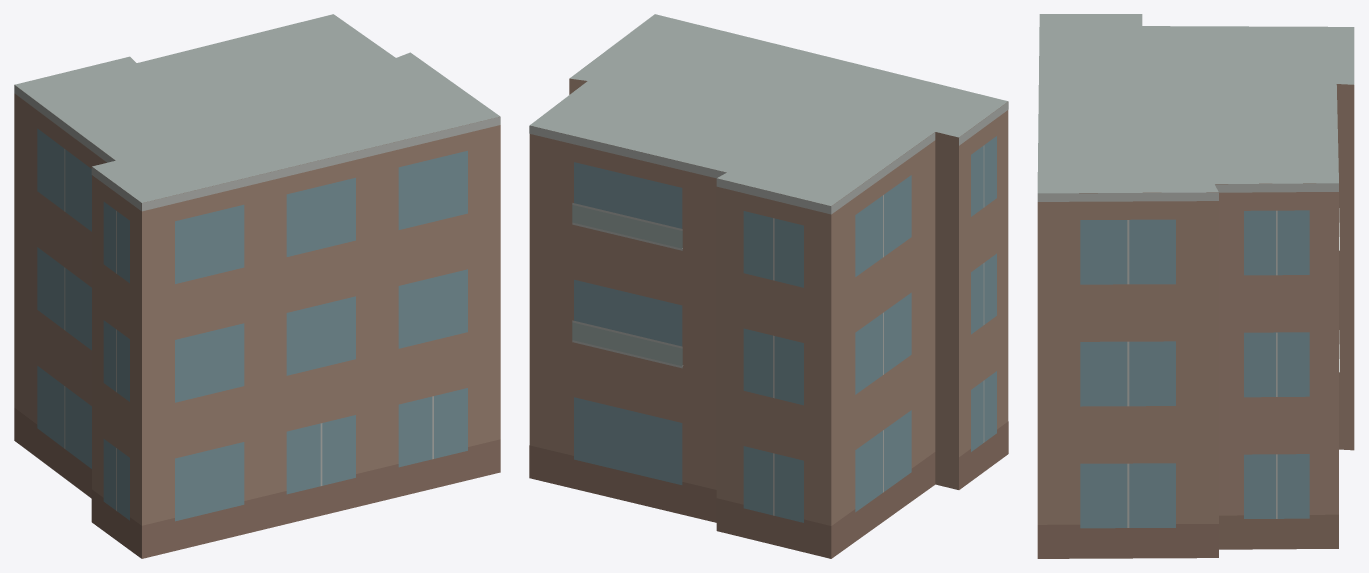
Rendered from survey-upis-32774059.glb.
3 renders of one model, left to right at view 1: azimuth 30°, elevation 25°; view 2: azimuth 150°, elevation 25°; view 3: azimuth 270°, elevation 25°, orthographic. The views are drawn at different scales.
Visible parts, largest first — view 1: survey-upis-32774059.tmp; view 2: survey-upis-32774059.tmp; view 3: survey-upis-32774059.tmp.
Part boxes in pixels (x1,y1,x2,y2): survey-upis-32774059.tmp: (14,14,500,558); survey-upis-32774059.tmp: (529,14,1008,558); survey-upis-32774059.tmp: (1037,14,1354,558).
Size of the model in its own units: 10.85 by 10.3 by 8.1.
